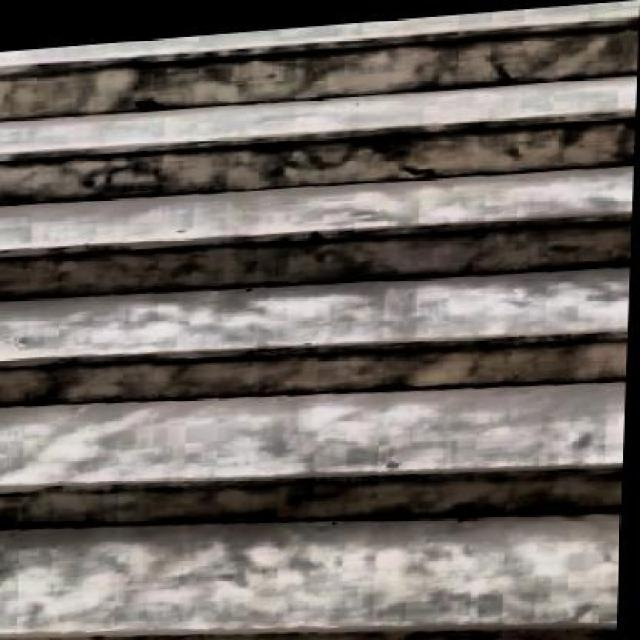stair: (2, 1, 640, 638)
